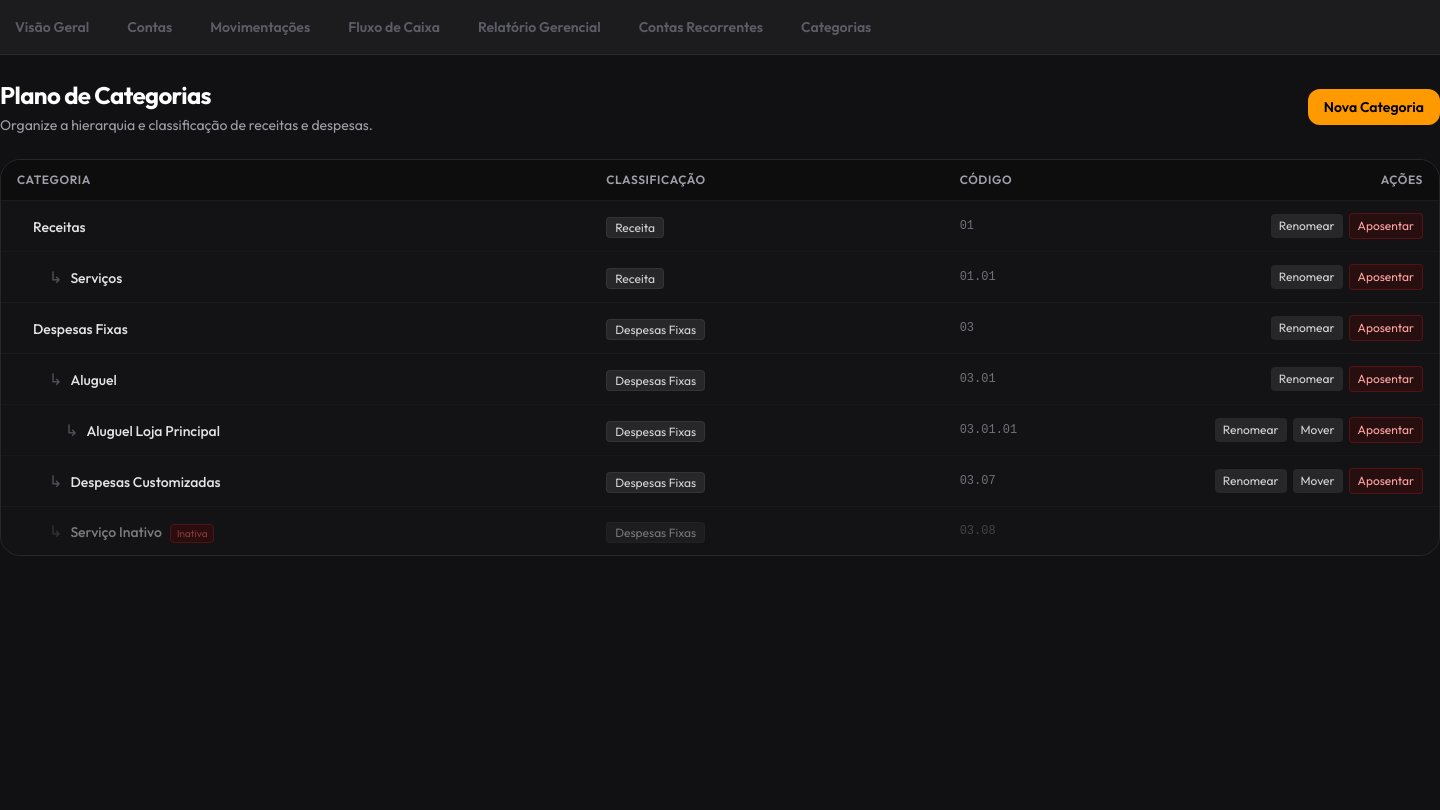
Test: CategoriasPage — UI Suite › 10. modal de mover filtra pais inelegíveis (mesmo nó, descendentes, oficiais non-root)
Expected: the text "Despesas Customizadas" is shown, [70,473,220,491]
Expected: the element with class "hidden" that starts with "Categoria" is shown, [0,159,1439,556]
Note: Clicar no botão Mover de Despesas Customizadas (segundo botão customizado no desktop)
Click the button "Mover" in the row of "03.07" at (1318, 481), box [1292,469,1342,493]
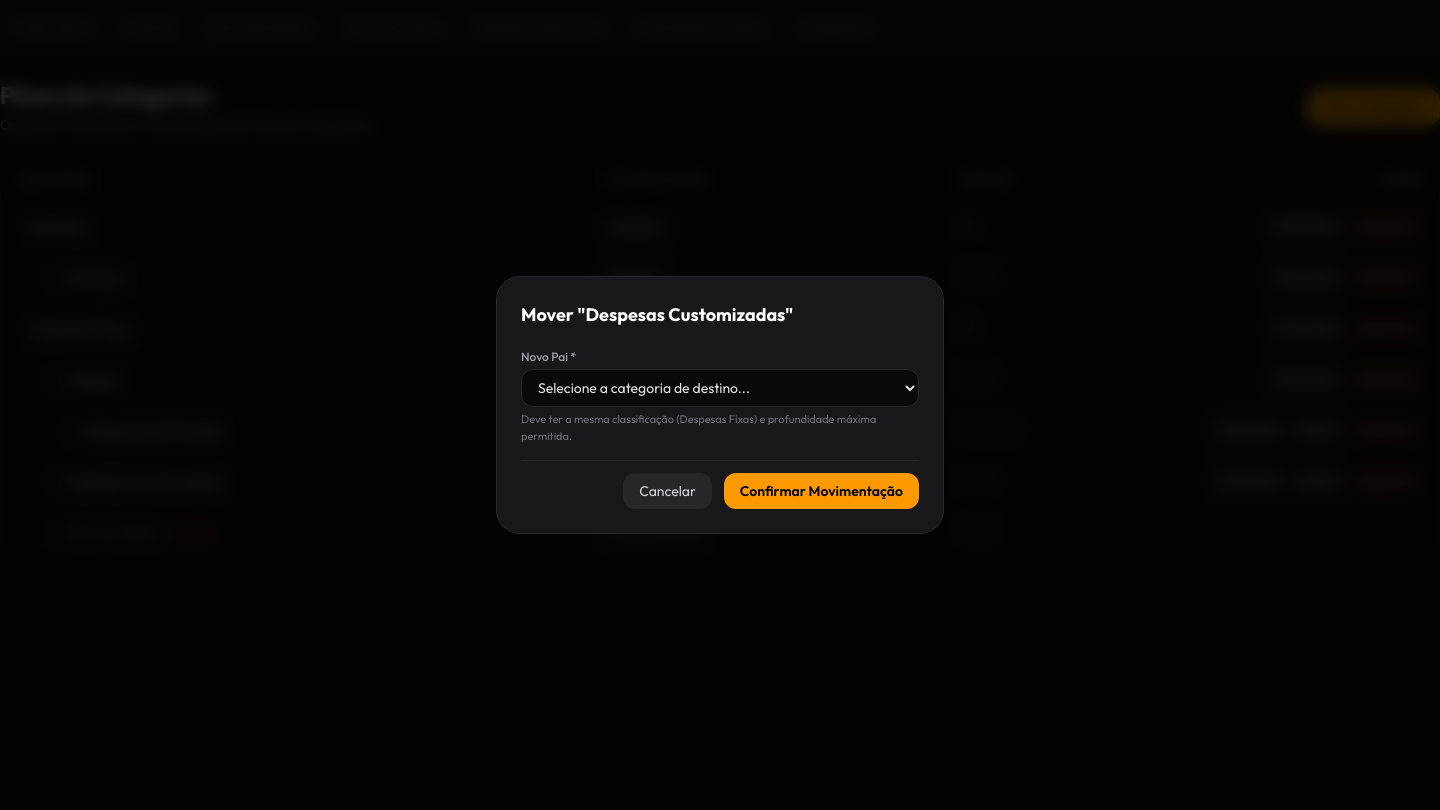
Now the heading "Mover \"Despesas Customizadas\"" is shown, box [521,303,793,326]
